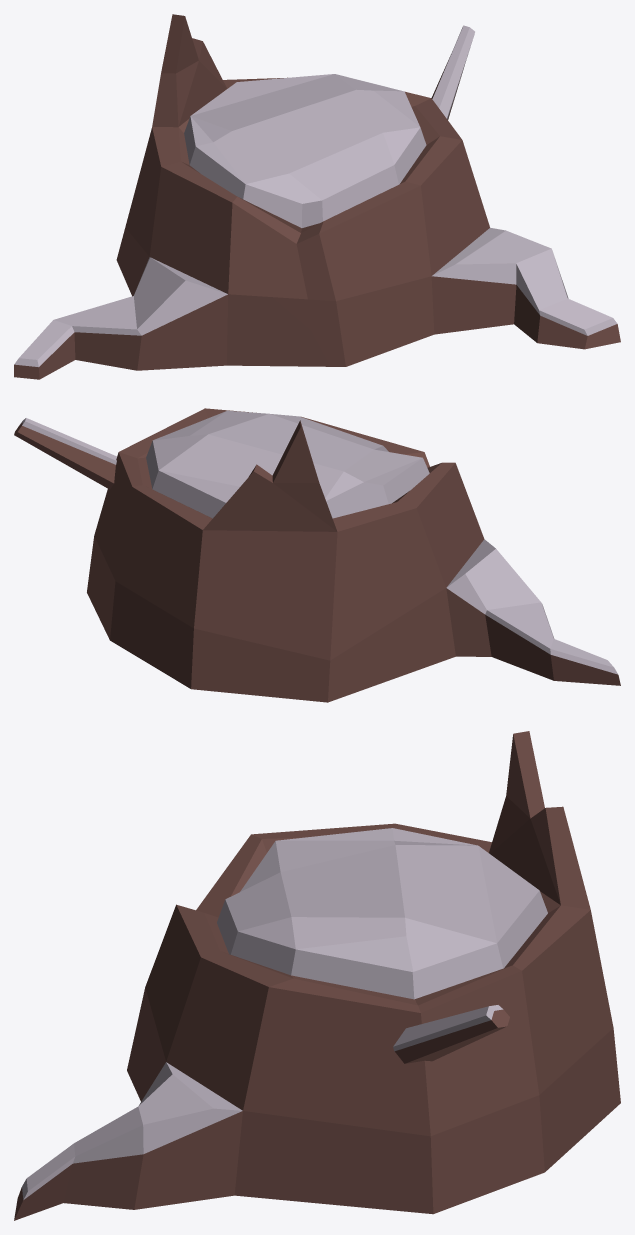
Rendered from tree_stump_snow.glb.
The picture shows the model from 3 angles, top to bottom: view 1: azimuth 30°, elevation 25°; view 2: azimuth 150°, elevation 25°; view 3: azimuth 270°, elevation 25°; orthographic projection. The views are drawn at different scales.
Visible parts, largest first — view 1: tree_stump_snow; view 2: tree_stump_snow; view 3: tree_stump_snow.
Part boxes in pixels (x1,y1,x2,y2): tree_stump_snow: (14,14,620,379); tree_stump_snow: (14,408,620,702); tree_stump_snow: (14,731,620,1220).
Size of the model in its own units: 1.36 by 0.6216 by 1.03.
Materials: 1 (1 with a texture image).
